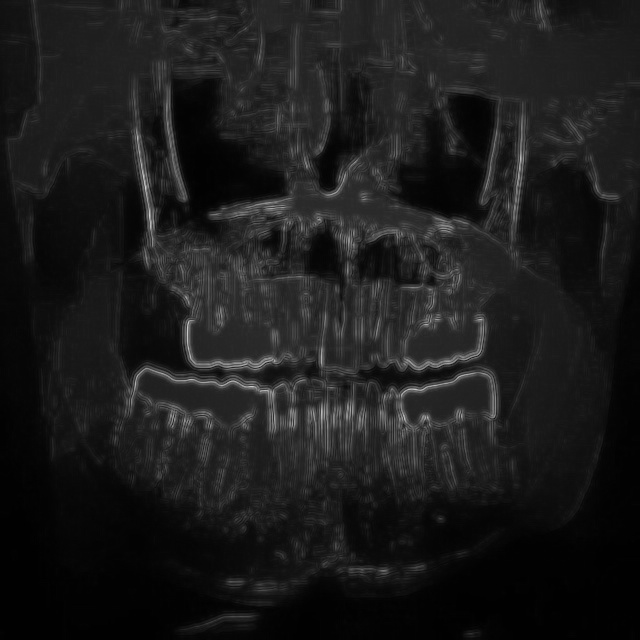Class 0- No endodontic treatment: (182, 244, 272, 338)
Class 1- complete endodontic treatment: (207, 410, 259, 520), (428, 408, 478, 511)
Class 2- incomplete endodontic treatment: (114, 370, 170, 503), (167, 396, 216, 516)
cavity: (272, 375, 401, 516), (307, 264, 401, 373)
